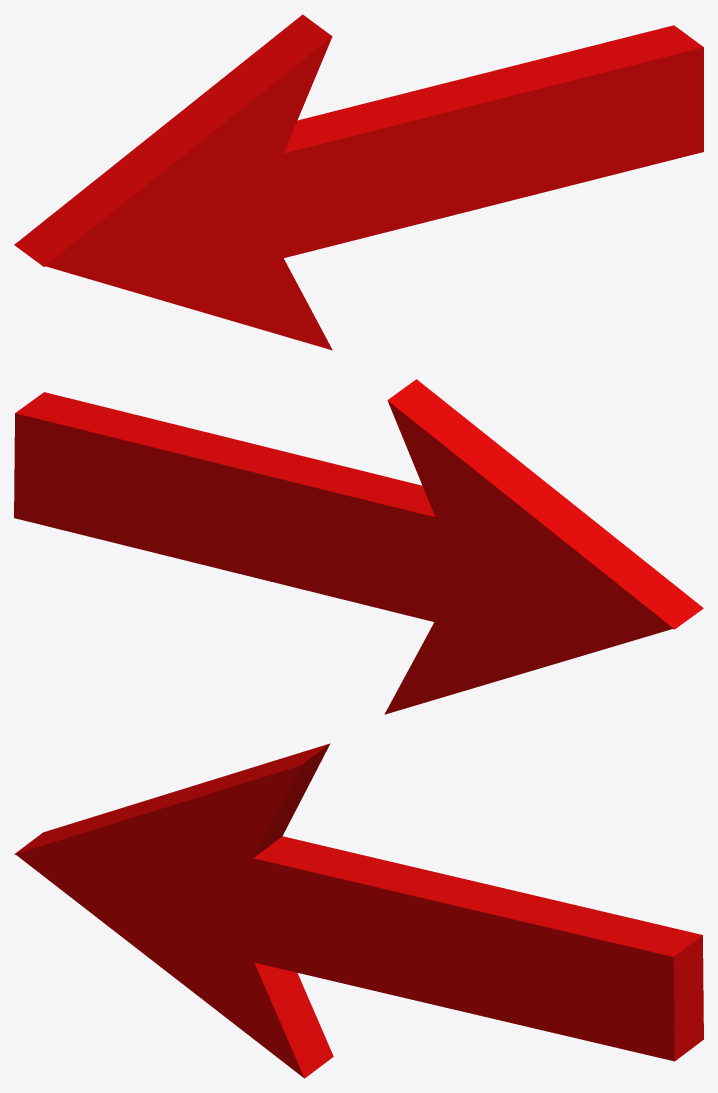
File: X-Axis.fbx
3 renders of one model, top to bottom at view 1: azimuth 30°, elevation 25°; view 2: azimuth 150°, elevation 25°; view 3: azimuth 330°, elevation 25°, orthographic.
Visible parts, largest first — view 1: polySurface5; view 2: polySurface5; view 3: polySurface5.
Part boxes in pixels (x1,y1,x2,y2): polySurface5: [14, 14, 703, 350]; polySurface5: [14, 379, 703, 714]; polySurface5: [14, 743, 703, 1078].
Bounding box in the file's own units: 4 × 1.82 × 0.3305.
